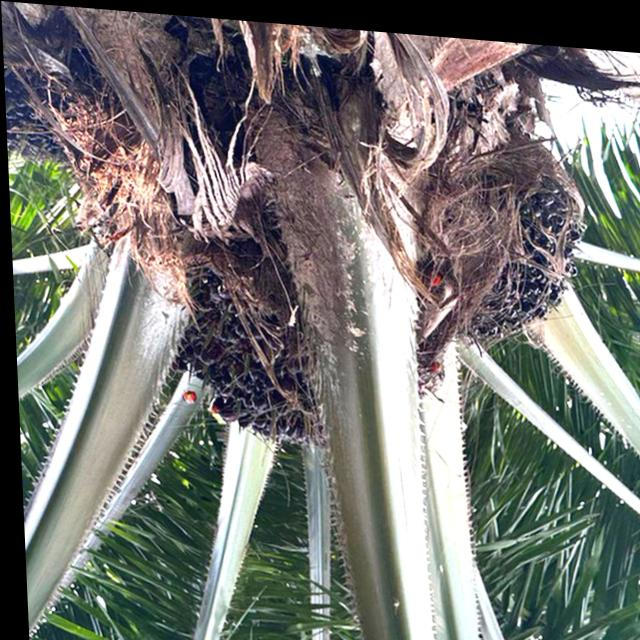ripe: (161, 235, 323, 456)
